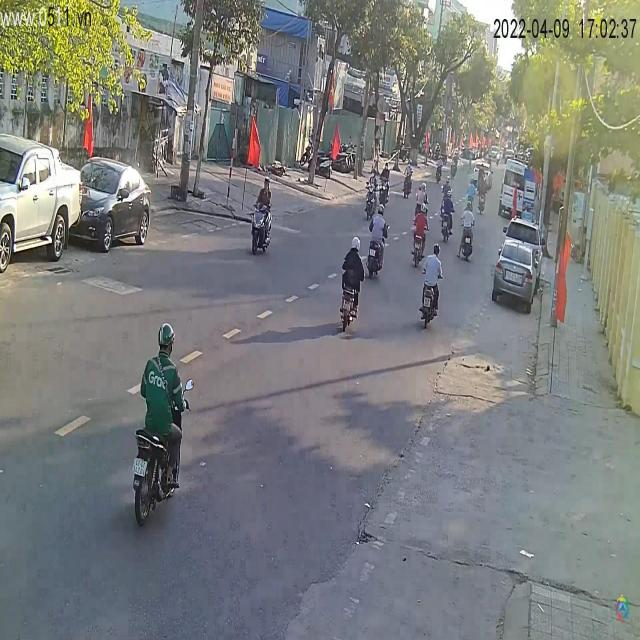car: (1, 132, 83, 276), (73, 158, 155, 254), (492, 221, 546, 314)
motorcycle: (132, 424, 182, 527), (339, 261, 364, 340), (419, 284, 440, 333), (250, 208, 272, 254), (409, 215, 426, 270), (365, 237, 385, 278), (439, 197, 457, 242), (362, 180, 379, 219), (459, 229, 476, 260)
